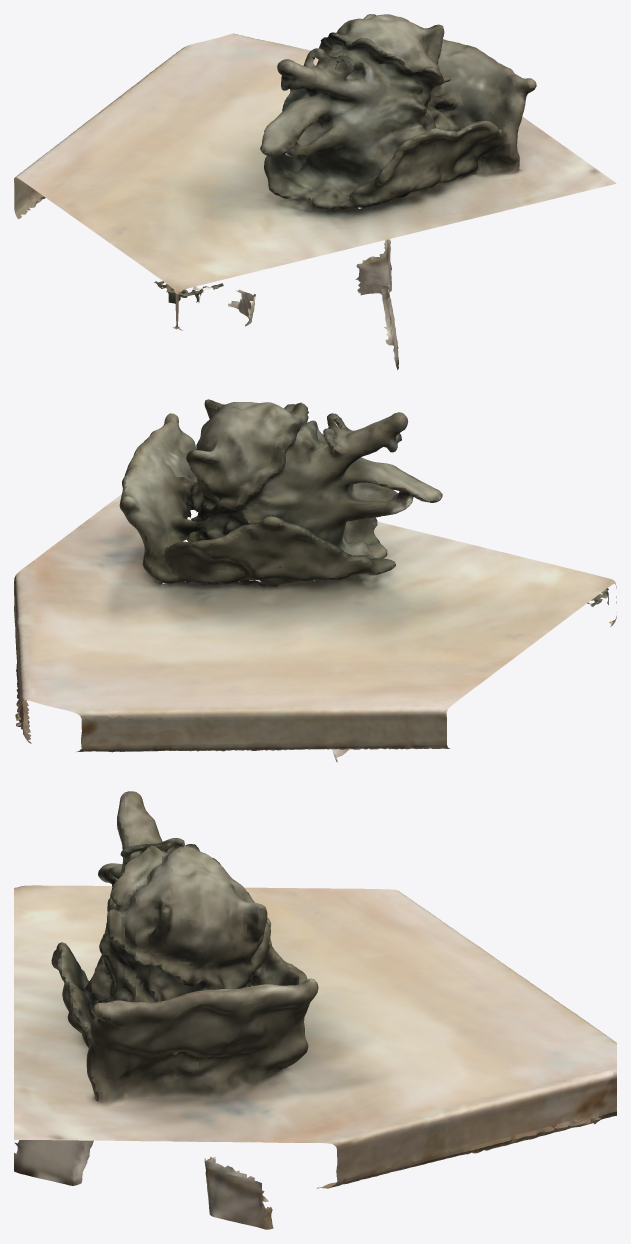
Rendered from loup_imgupdate.glb.
The picture shows the model from 3 angles, top to bottom: view 1: azimuth 30°, elevation 25°; view 2: azimuth 150°, elevation 25°; view 3: azimuth 270°, elevation 25°; orthographic projection. The views are drawn at different scales.
Parts seen in each view (by area): view 1: Model; view 2: Model; view 3: Model.
Boxes of the visible parts, left/top/right/bottom form: Model: left=14, top=14, right=616, bottom=370; Model: left=14, top=399, right=616, bottom=762; Model: left=14, top=791, right=616, bottom=1229.
Size of the model in its own units: 0.489 by 0.3081 by 0.489.
Materials: 1 (1 with a texture image).
